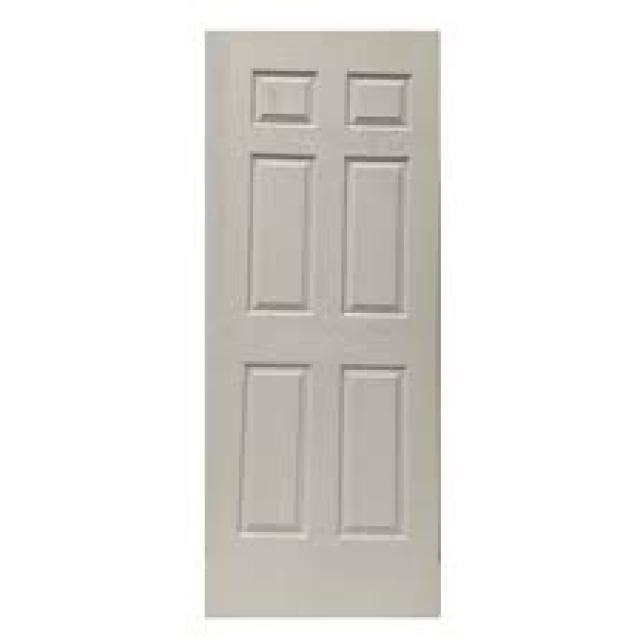door: (203, 28, 442, 618)
